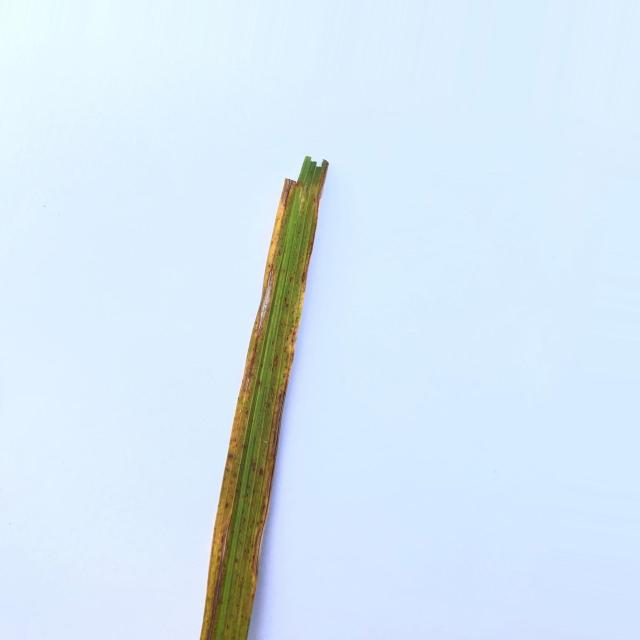Rice Tungro: (201, 156, 328, 639)
